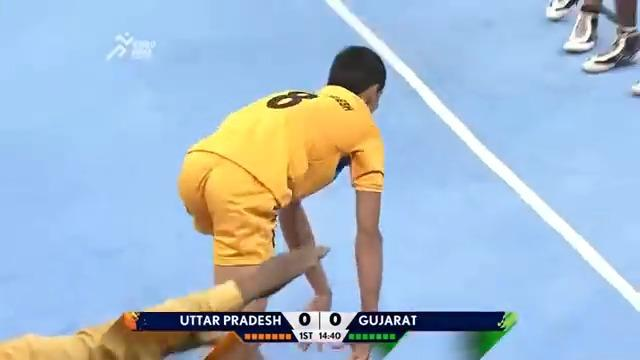Raider: (176, 44, 388, 357)
referee: (0, 242, 332, 358), (546, 1, 639, 74), (562, 0, 602, 52)
